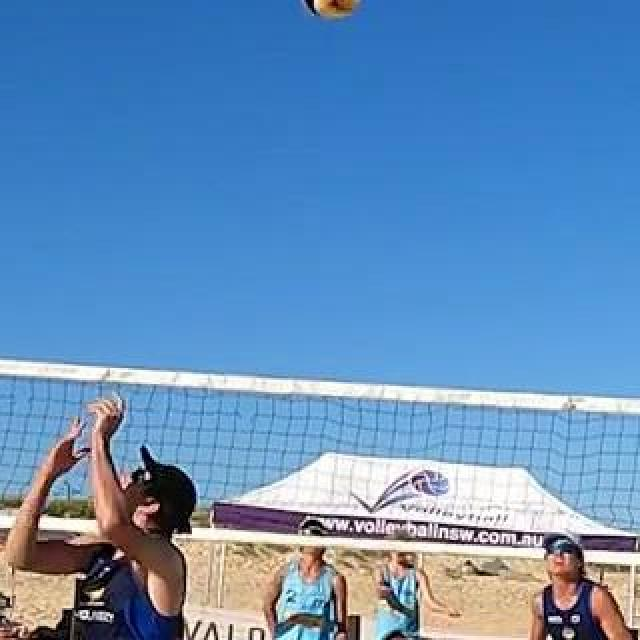volleyball: (303, 1, 363, 17)
